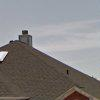Chimney: (10, 24, 43, 61)
